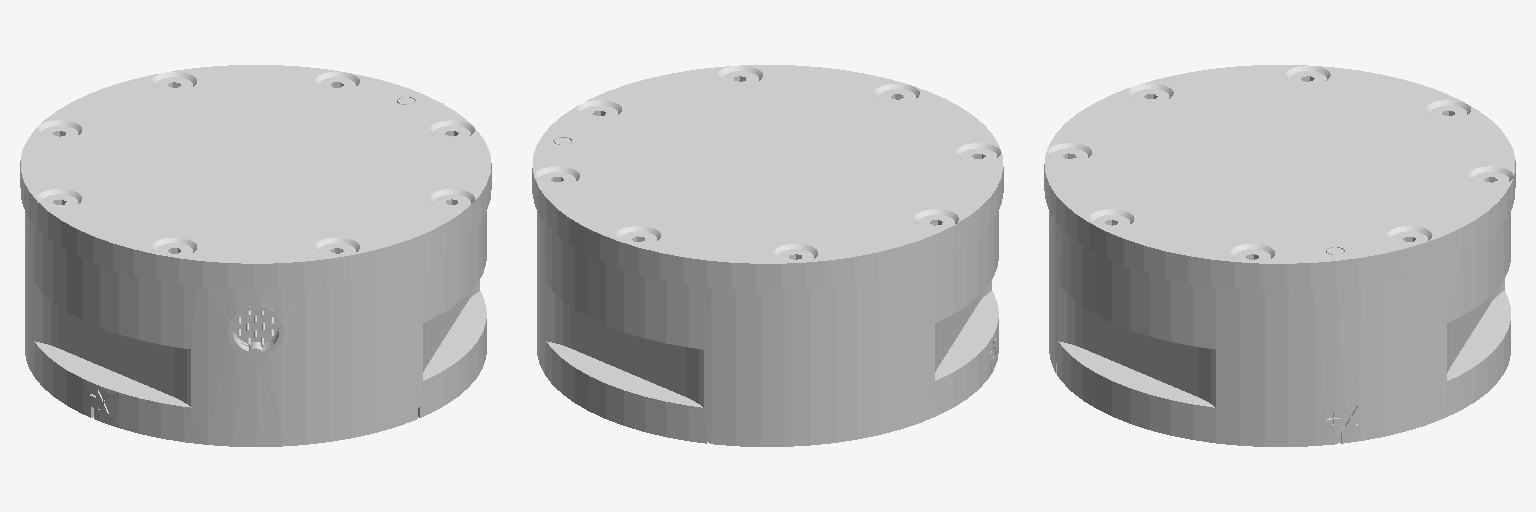
robot.urdf — panda:
<?xml version="1.0" ?>
<!-- =================================================================================== -->
<!-- |    This document was autogenerated by xacro from panda_arm_hand.urdf.xacro      | -->
<!-- |    EDITING THIS FILE BY HAND IS NOT RECOMMENDED                                 | -->
<!-- =================================================================================== -->
<robot name="panda" xmlns:xacro="http://www.ros.org/wiki/xacro">
  <material name="black">
    <color rgba="0.0 0.0 0.0 1"/>
  </material>
  <material name="white">
    <color rgba="0.9 0.9 0.9 1"/>
  </material>
  <material name="dark_gray">
    <color rgba="0.3 0.3 0.3 1"/>
  </material>
  <material name="gray">
    <color rgba="0.5 0.5 0.5 1"/>
  </material>
  <material name="light_gray">
    <color rgba="0.7 0.7 0.7 1"/>
  </material>
  <material name="pure_red">
    <color rgba="1.0 0.0 0.0 1"/>
  </material>
  <material name="red">
    <color rgba="0.5 0.1 0.2 1"/>
  </material>
  <material name="pure_green">
    <color rgba="0.0 1.0 0.0 1"/>
  </material>
  <material name="pure_blue">
    <color rgba="0.0 0.0 1.0 1"/>
  </material>
  <material name="blue">
    <color rgba="0.0 0.2 0.3 1"/>
  </material>

  <link name="panda_link0">
    <inertial> <!-- these inertia are calculated based on the visual meshes using Meshlab, and using a density of 1kg/m^3 (http://gazebosim.org/tutorials?tut=inertia) -->
      <mass value="1"/> <!-- volume = 0.002442 -->
      <origin xyz="-0.025566 -0.000029 0.057332"/>
      <!--inertia ixx="0.000007" ixy="0.0" ixz="-0.000001" iyy="0.000009" iyz="0.0" izz="0.000009"/-->
      <inertia ixx="0.00286650" ixy="0.0" ixz="-0.0004095" iyy="0.00368550" iyz="0.0" izz="0.00368550"/> <!-- divided by the volume, just need to be multiplied by the mass -->
    </inertial>
    <visual>
      <material name="white"/>
      <geometry>
        <mesh filename="meshes/visual/link0.stl"/>
      </geometry>
    </visual>
    <collision>
      <geometry>
        <mesh filename="meshes/collision/link0.stl"/>
      </geometry>
    </collision>
  </link>
  <link name="panda_link1">
    <inertial> <!-- these inertia are calculated based on the visual meshes using Meshlab, and using a density of 1kg/m^3 (http://gazebosim.org/tutorials?tut=inertia) -->
      <mass value="1"/> <!-- volume = 0.002293 -->
      <origin xyz="-0.000000 -0.032496 -0.067582"/>
      <!--inertia ixx="0.000015" ixy="0.0" ixz="0.0" iyy="0.000013" iyz="0.000004" izz="0.000005"/-->
      <inertia ixx="0.00654165" ixy="0.0" ixz="0.0" iyy="0.00566943" iyz="0.00174444" izz="0.00218055"/> <!-- divided by the volume, just need to be multiplied by the mass -->
    </inertial>
    <visual>
      <material name="white"/>
      <geometry>
        <mesh filename="meshes/visual/link1.stl"/>
      </geometry>
    </visual>
    <collision>
      <geometry>
        <mesh filename="meshes/collision/link1.stl"/>
      </geometry>
    </collision>
  </link>
  <joint name="panda_joint1" type="revolute">
    <safety_controller k_position="100.0" k_velocity="40.0" soft_lower_limit="-2.8973" soft_upper_limit="2.8973"/>
    <origin rpy="0 0 0" xyz="0 0 0.333"/>
    <parent link="panda_link0"/>
    <child link="panda_link1"/>
    <axis xyz="0 0 1"/>
    <limit effort="87" lower="-2.9671" upper="2.9671" velocity="2.1750"/>
  </joint>
  <link name="panda_link2">
    <inertial> <!-- these inertia are calculated based on the visual meshes using Meshlab, and using a density of 1kg/m^3 (http://gazebosim.org/tutorials?tut=inertia) -->
      <mass value="1"/> <!-- volume = 0.002312 -->
      <origin xyz="0.000000 -0.068610 0.032229"/>
      <!--inertia ixx="0.000015" ixy="0.0" ixz="0.0" iyy="0.000005" iyz="0.000004" izz="0.000014"/-->
      <inertia ixx="0.00648789" ixy="0.0" ixz="0.0" iyy="0.00216263" iyz="0.0017301" izz="0.00605536"/> <!-- divided by the volume, just need to be multiplied by the mass -->
    </inertial>
    <visual>
      <material name="white"/>
      <geometry>
        <mesh filename="meshes/visual/link2.stl"/>
      </geometry>
    </visual>
    <collision>
      <geometry>
        <mesh filename="meshes/collision/link2.stl"/>
      </geometry>
    </collision>
  </link>
  <joint name="panda_joint2" type="revolute">
    <safety_controller k_position="100.0" k_velocity="40.0" soft_lower_limit="-1.7628" soft_upper_limit="1.7628"/>
    <origin rpy="-1.57079632679 0 0" xyz="0 0 0"/>
    <parent link="panda_link1"/>
    <child link="panda_link2"/>
    <axis xyz="0 0 1"/>
    <limit effort="87" lower="-1.8326" upper="1.8326" velocity="2.1750"/>
  </joint>
  <link name="panda_link3">
    <inertial> <!-- these inertia are calculated based on the visual meshes using Meshlab, and using a density of 1kg/m^3 (http://gazebosim.org/tutorials?tut=inertia) -->
      <mass value="1"/> <!-- volume = 0.002021 -->
      <origin xyz="0.046989 0.031637 -0.031704"/>
      <!--inertia ixx="0.000007" ixy="-0.000002" ixz="-0.000003" iyy="0.000008" iyz="-0.000002" izz="0.000007"/-->
      <inertia ixx="0.00346363" ixy="-0.0009896" ixz="-0.00148441" iyy="0.00395844" iyz="-0.0009896" izz="0.00346363"/> <!-- divided by the volume, just need to be multiplied by the mass -->
    </inertial>
    <visual>
      <!-- <material name="light_gray"/> -->
      <material name="white"/>
      <geometry>
        <mesh filename="meshes/visual/link3.stl"/>
      </geometry>
    </visual>
    <collision>
      <geometry>
        <mesh filename="meshes/collision/link3.stl"/>
      </geometry>
    </collision>
  </link>
  <joint name="panda_joint3" type="revolute">
    <safety_controller k_position="100.0" k_velocity="40.0" soft_lower_limit="-2.8973" soft_upper_limit="2.8973"/>
    <origin rpy="1.57079632679 0 0" xyz="0 -0.316 0"/>
    <parent link="panda_link2"/>
    <child link="panda_link3"/>
    <axis xyz="0 0 1"/>
    <limit effort="87" lower="-2.9671" upper="2.9671" velocity="2.1750"/>
  </joint>
  <link name="panda_link4">
    <inertial> <!-- these inertia are calculated based on the visual meshes using Meshlab, and using a density of 1kg/m^3 (http://gazebosim.org/tutorials?tut=inertia) -->
      <mass value="1"/> <!-- volume = 0.002004 -->
      <origin xyz="-0.036051 0.033707 0.031902"/>
      <!--inertia ixx="0.000007" ixy="0.000003" ixz="-0.000002" iyy="0.000007" iyz="0.000002" izz="0.000009"/-->
      <inertia ixx="0.00349301" ixy="0.00149701" ixz="-0.00099800" iyy="0.00349301" iyz="0.00099800" izz="0.00449102"/> <!-- divided by the volume, just need to be multiplied by the mass -->
    </inertial>
    <visual>
      <material name="white"/>
      <geometry>
        <mesh filename="meshes/visual/link4.stl"/>
      </geometry>
    </visual>
    <collision>
      <geometry>
        <mesh filename="meshes/collision/link4.stl"/>
      </geometry>
    </collision>
  </link>
  <joint name="panda_joint4" type="revolute">
    <safety_controller k_position="100.0" k_velocity="40.0" soft_lower_limit="-3.0718" soft_upper_limit="-0.0698"/>
    <origin rpy="1.57079632679 0 0" xyz="0.0825 0 0"/>
    <parent link="panda_link3"/>
    <child link="panda_link4"/>
    <axis xyz="0 0 1"/>
    <limit effort="87" lower="-3.1416" upper="0.0" velocity="2.1750"/>
  </joint>
  <link name="panda_link5">
    <inertial> <!-- these inertia are calculated based on the visual meshes using Meshlab, and using a density of 1kg/m^3 (http://gazebosim.org/tutorials?tut=inertia) -->
      <mass value="1"/> <!-- volume = 0.002275 -->
      <origin xyz="-0.000006 0.061043 -0.104176"/>
      <!--inertia ixx="0.000025" ixy="0.000000" ixz="-0.000000" iyy="0.000024" iyz="-0.000006" izz="0.000004"/-->
      <inertia ixx="0.01098901" ixy="0.000000" ixz="0.000000" iyy="0.01054945" iyz="-0.00263736" izz="0.00175824"/> <!-- divided by the volume, just need to be multiplied by the mass -->
    </inertial>
    <visual>
      <material name="white"/>
      <geometry>
        <mesh filename="meshes/visual/link5.stl"/>
      </geometry>
    </visual>
    <collision>
      <geometry>
        <mesh filename="meshes/collision/link5.stl"/>
      </geometry>
    </collision>
  </link>
  <joint name="panda_joint5" type="revolute">
    <safety_controller k_position="100.0" k_velocity="40.0" soft_lower_limit="-2.8973" soft_upper_limit="2.8973"/>
    <origin rpy="-1.57079632679 0 0" xyz="-0.0825 0.384 0"/>
    <parent link="panda_link4"/>
    <child link="panda_link5"/>
    <axis xyz="0 0 1"/>
    <limit effort="12" lower="-2.9671" upper="2.9671" velocity="2.6100"/>
  </joint>
  <link name="panda_link6">
    <inertial> <!-- these inertia are calculated based on the visual meshes using Meshlab, and using a density of 1kg/m^3 (http://gazebosim.org/tutorials?tut=inertia) -->
      <mass value="1"/> <!-- volume = 0.001435 --> <!-- NOTE: BECAUSE MESHLAB OUTPUTED NAN FOR THE VISUAL MESH, I USED THE COLLISION MESH -->
      <origin xyz="0.051002 0.006933 0.006169"/>
      <!--inertia ixx="0.000002" ixy="0.000000" ixz="0.000000" iyy="0.000004" iyz="0.000000" izz="0.000004"/-->
      <inertia ixx="0.00139373" ixy="0.000000" ixz="0.000000" iyy="0.00278745" iyz="0.000000" izz="0.00278745"/> <!-- divided by the volume, just need to be multiplied by the mass -->
    </inertial>
    <visual>
      <material name="white"/>
      <geometry>
        <mesh filename="meshes/visual/link6.stl"/>
      </geometry>
    </visual>
    <collision>
      <geometry>
        <mesh filename="meshes/collision/link6.stl"/>
      </geometry>
    </collision>
  </link>
  <joint name="panda_joint6" type="revolute">
    <safety_controller k_position="100.0" k_velocity="40.0" soft_lower_limit="-0.0175" soft_upper_limit="3.7525"/>
    <origin rpy="1.57079632679 0 0" xyz="0 0 0"/>
    <parent link="panda_link5"/>
    <child link="panda_link6"/>
    <axis xyz="0 0 1"/>
    <limit effort="12" lower="-0.0873" upper="3.8223" velocity="2.6100"/>
  </joint>
  <link name="panda_link7">
    <inertial> <!-- these inertia are calculated based on the visual meshes using Meshlab, and using a density of 1kg/m^3 (http://gazebosim.org/tutorials?tut=inertia) -->
      <mass value="1"/> <!-- volume = 0.000454 -->
      <origin xyz="0.010969 0.010797 0.065041"/>
      <!--inertia ixx="0.000001" ixy="0.000000" ixz="0.000000" iyy="0.000001" iyz="0.000000" izz="0.000001"/-->
      <inertia ixx="0.00220264" ixy="0.000000" ixz="0.000000" iyy="0.00220264" iyz="0.000000" izz="0.00220264"/> <!-- divided by the volume, just need to be multiplied by the mass -->
    </inertial>
    <visual>
      <material name="white"/>
      <geometry>
        <mesh filename="meshes/visual/link7.stl"/>
      </geometry>
    </visual>
    <collision>
      <geometry>
        <mesh filename="meshes/collision/link7.stl"/>
      </geometry>
    </collision>
  </link>
  <joint name="panda_joint7" type="revolute">
    <safety_controller k_position="100.0" k_velocity="40.0" soft_lower_limit="-2.8973" soft_upper_limit="2.8973"/>
    <origin rpy="1.57079632679 0 0" xyz="0.088 0 0"/>
    <parent link="panda_link6"/>
    <child link="panda_link7"/>
    <axis xyz="0 0 1"/>
    <limit effort="12" lower="-2.9671" upper="2.9671" velocity="2.6100"/>
  </joint>
  <!--
  <link name="panda_link8">
    <inertial>
      <origin rpy="0 0 0" xyz="0 0 0"/>
      <mass value="0"/>
      <inertia ixx="0.0" ixy="0.0" ixz="0.0" iyy="0.0" iyz="0.0" izz="0.0"/>
    </inertial>
  </link>
  <joint name="panda_joint8" type="fixed">
    <origin rpy="0 0 -0.7854" xyz="0.0 0.0 0.107"/>
    <parent link="panda_link7"/>
    <child link="panda_link8"/>
    <axis xyz="0 0 0"/>
  </joint>
-->
  <link name="panda_force_sensor">
      <inertial>
          <mass value="1"/>
          <origin xyz="-0.000007 0.001524 0.027591"/>
          <inertia ixx="0.00409836" ixy="0.000000" ixz="0.000000" iyy="0.00061475" iyz="0.000000" izz="0.00409836"/>
        </inertial>
        <visual>
          <origin rpy="0 0 0" xyz="-0.0377 -0.0377 -0.0333"/>
          <material name="white"/>
          <geometry>
            <mesh filename="meshes/visual/force_sensor.stl" scale="0.001 0.001 0.001"/>
          </geometry>
        </visual>
        <collision>
          <geometry>
            <mesh filename="meshes/collision/force_sensor.stl" scale="0.001 0.001 0.001"/>
          </geometry>
        </collision>
  </link>
  <joint name="panda_force_sensor_joint" type="fixed">
    <parent link="panda_link7"/>
    <child link="panda_force_sensor"/>
    <origin rpy="0 0 -0.7854" xyz="0 0 0.1403"/>
  </joint>
  <link name="panda_end_effector">
      <inertial>
          <mass value="1"/>
          <origin xyz="-0.000007 0.001524 0.027591"/>
          <inertia ixx="0.00409836" ixy="0.000000" ixz="0.000000" iyy="0.00061475" iyz="0.000000" izz="0.00409836"/>
        </inertial>
        <visual>
          <origin rpy="0 0 0" xyz="0 0 0"/>
          <material name="white"/>
          <geometry>
              <mesh filename="meshes/visual/end_effector.stl" scale="0.001 0.001 0.001"/>
          </geometry>
        </visual>
        <collision>
          <geometry>
              <mesh filename="meshes/collision/end_effector.stl" scale="0.001 0.001 0.001"/>
          </geometry>
        </collision>
  </link>
  <joint name="panda_end_effector_joint" type="fixed">
    <parent link="panda_force_sensor"/>
    <child link="panda_end_effector"/>
    <origin rpy="0 0 0" xyz="0 0 0.04"/>
  </joint>
</robot>

--- Facts derived from the render (not from the file) ---
Views: 3 orthographic renders of the robot side by side, from view 1: azimuth 30°, elevation 25°; view 2: azimuth 150°, elevation 25°; view 3: azimuth 270°, elevation 25°.
Robot: panda — 10 links, 9 joints (7 revolute, 2 fixed); root link panda_link0; default pose: every joint at zero.
Links seen in each view (by area): view 1: panda_force_sensor; view 2: panda_force_sensor; view 3: panda_force_sensor.
Link boxes in pixels (x1,y1,x2,y2): panda_force_sensor: [20, 65, 491, 446]; panda_force_sensor: [532, 65, 1003, 446]; panda_force_sensor: [1044, 65, 1515, 446].
Bounding box of the posed robot: 0.0754 × 0.0754 × 0.0333 m (x, y, z).
Meshes: 10 distinct files referenced, 1 mesh visuals loaded (1 binary STL); not drawn: 9 (reference not matched to a file when rendering).